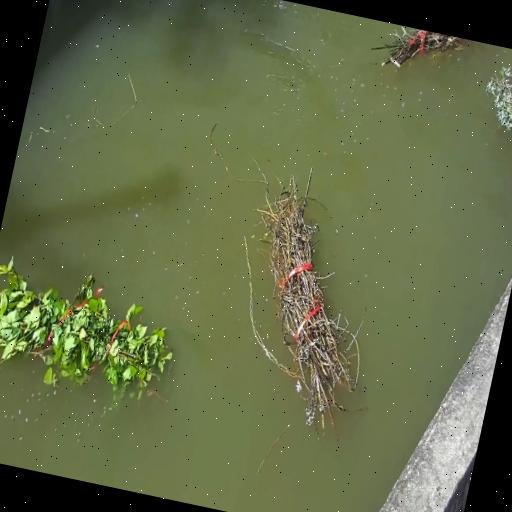twig: (257, 175, 358, 428), (0, 258, 172, 393), (377, 28, 459, 66), (485, 66, 512, 136)
